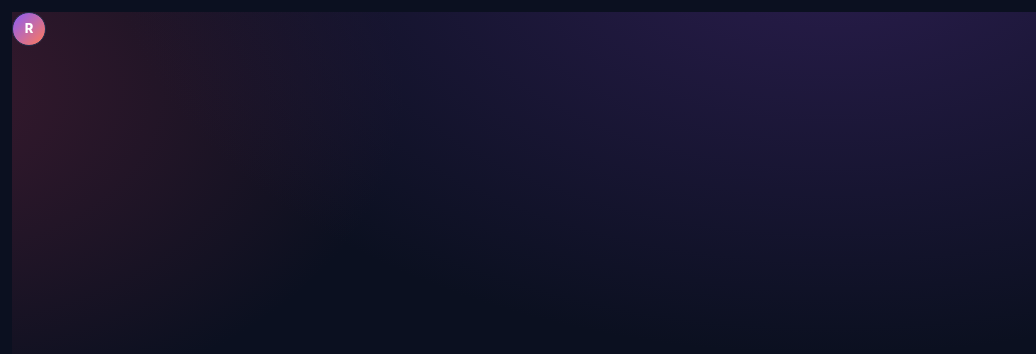
Scenario: <AccountMenu> › falls back to the email when there is no name
Click the button named "account menu": (29, 29) [12, 12, 46, 46]
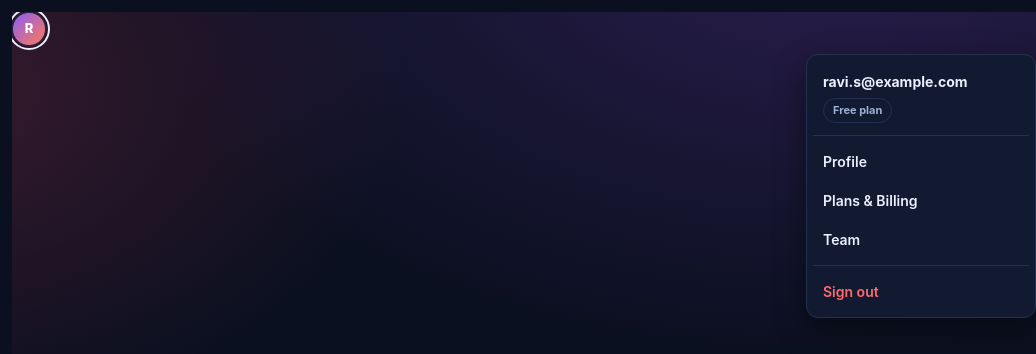
Expected: the text "ravi.s@example.com" is shown, [823, 73, 968, 90]
Expected: the text "Free plan" is shown, [823, 98, 892, 122]
